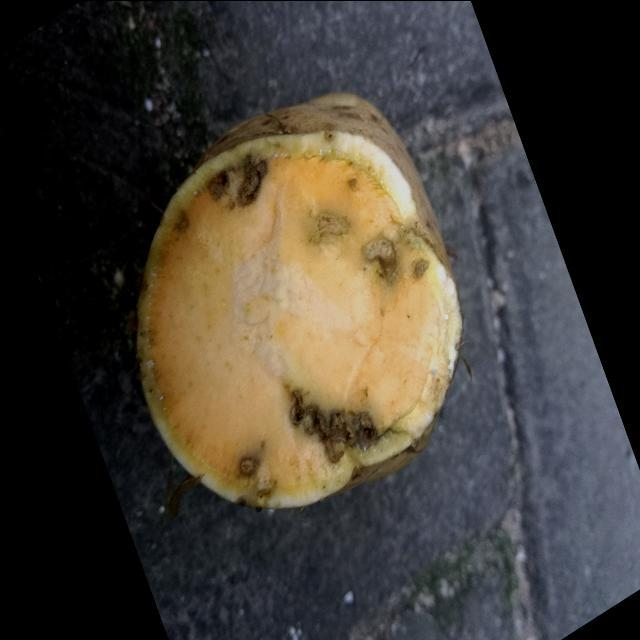Sick Sweet Potato_Tuber Rot: (136, 93, 462, 508)
